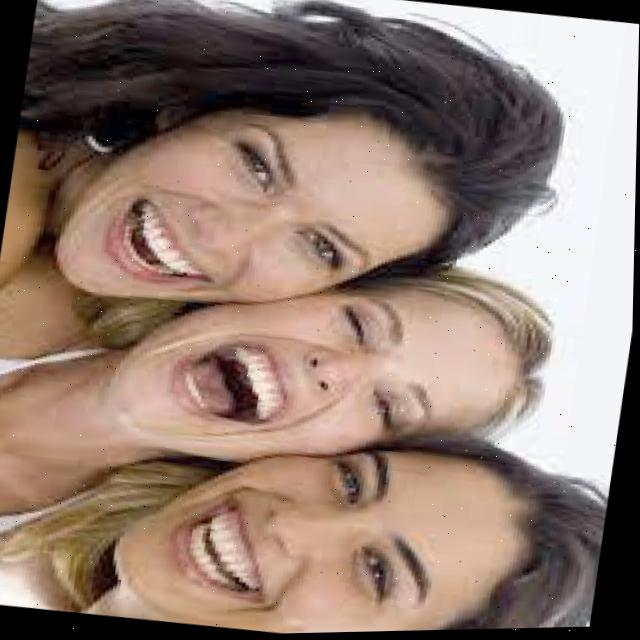happy: (0, 0, 498, 333)
